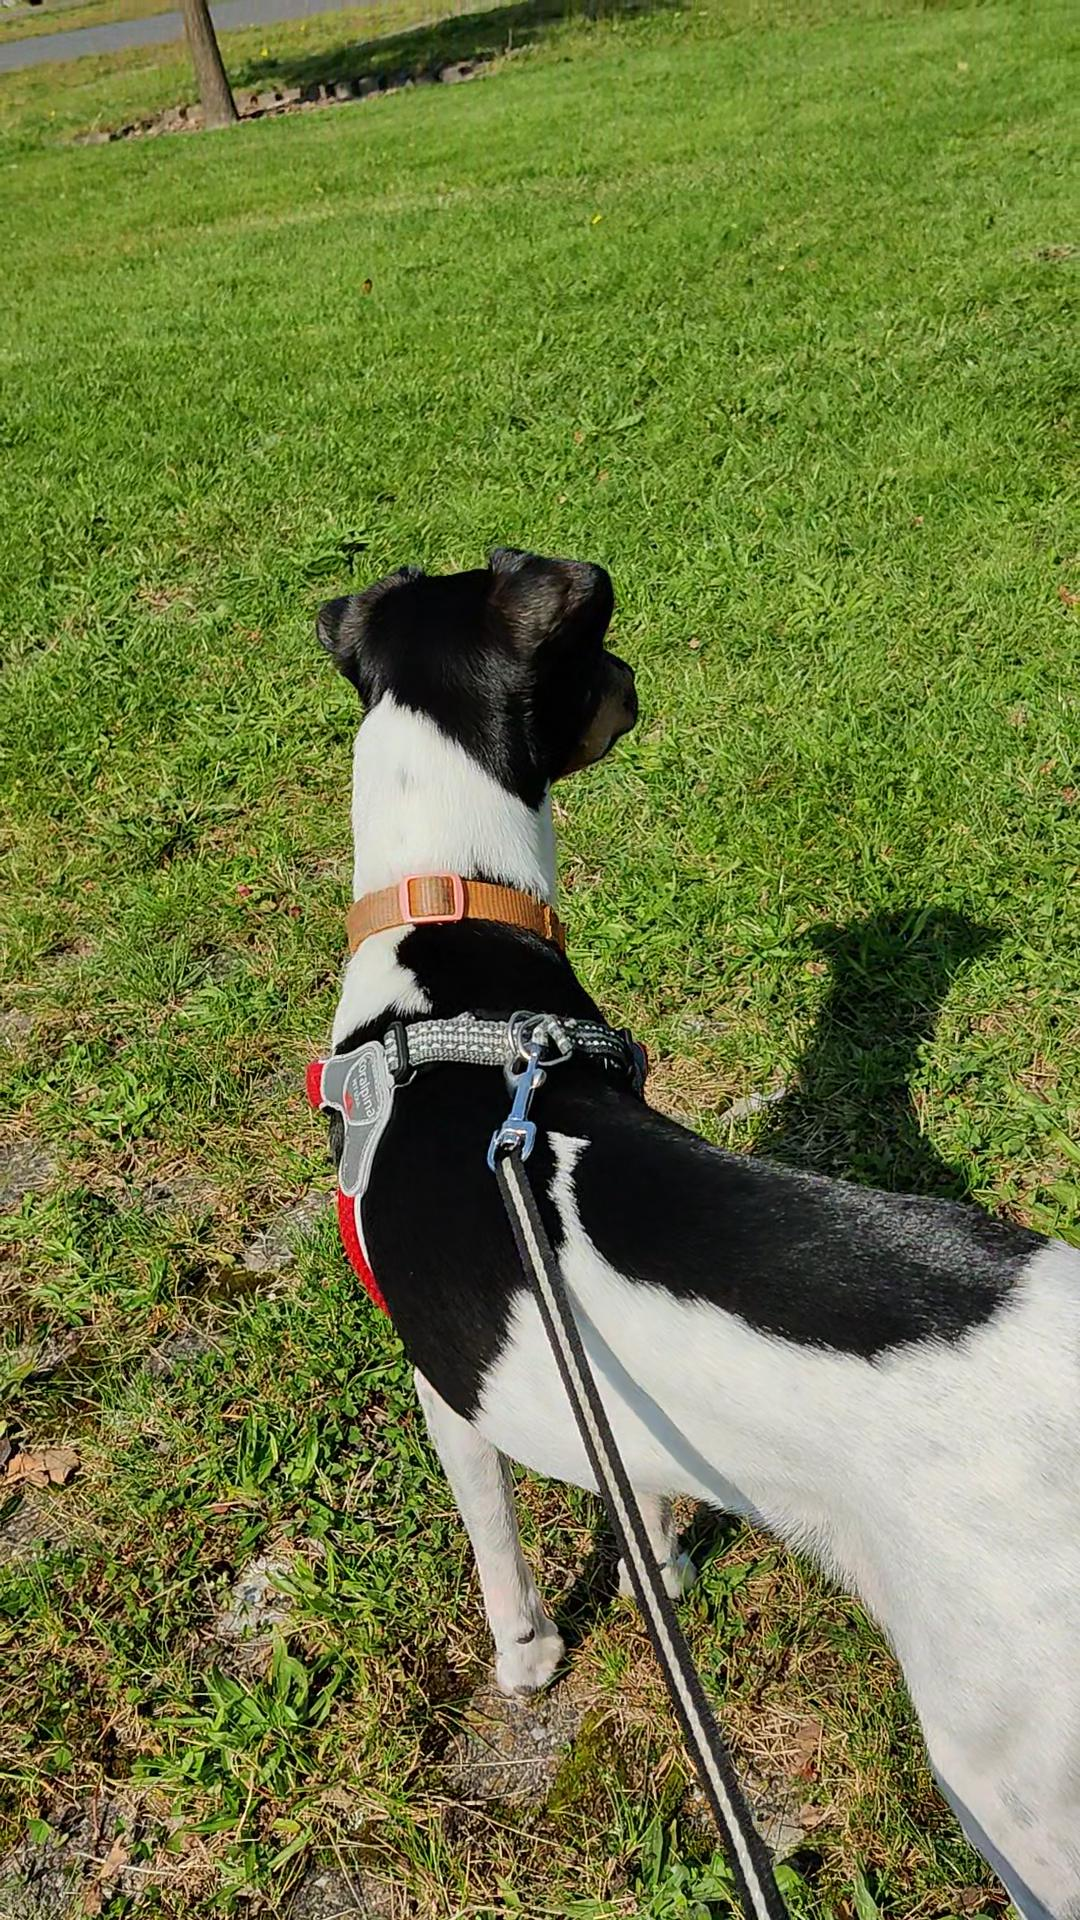Dog: (284, 530, 1079, 1919)
